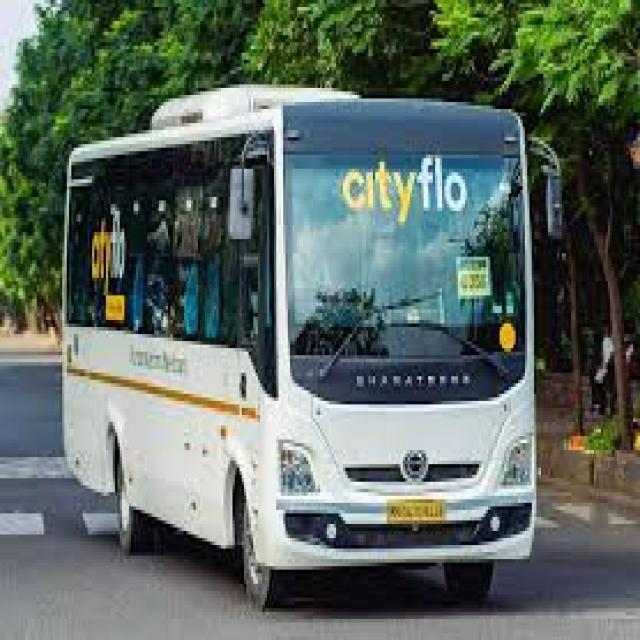Bus: (54, 132, 546, 591)
